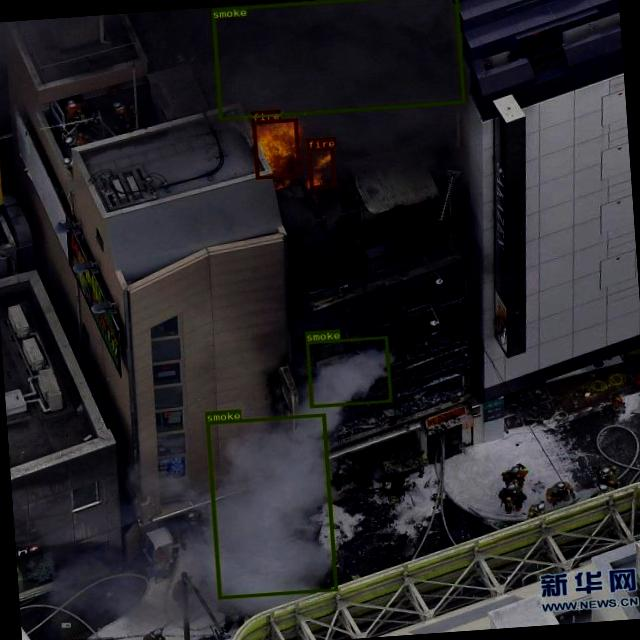fire: (251, 118, 300, 178), (306, 146, 336, 188)
smoke: (210, 0, 464, 119), (206, 412, 336, 598), (304, 334, 390, 406)
